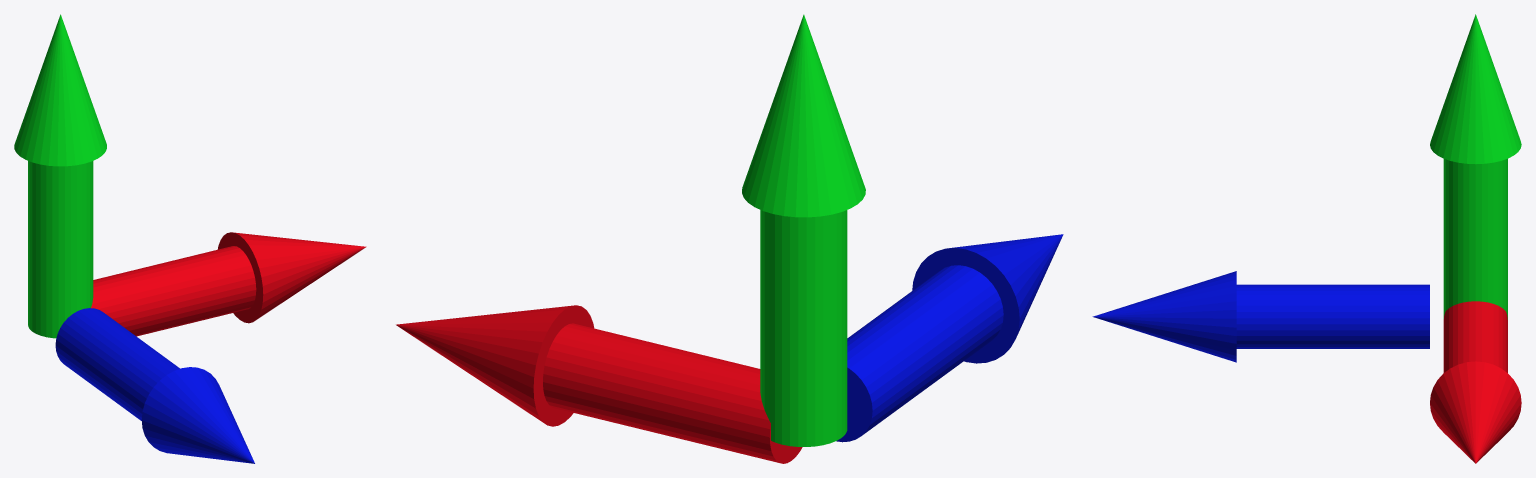
Rendered from axes.gltf.
3 views of the same model, side by side, from view 1: azimuth 30°, elevation 25°; view 2: azimuth 150°, elevation 25°; view 3: azimuth 270°, elevation 25° (orthographic). The views are drawn at different scales.
Visible parts, largest first — view 1: Cylinder.001, Cylinder.002, Cone.001, Cone, Cylinder, Cone.002; view 2: Cylinder.002, Cylinder.001, Cylinder, Cone.001, Cone.002, Cone; view 3: Cylinder, Cylinder.001, Cone.001, Cone, Cone.002, Cylinder.002.
Boxes of the visible parts, x1,y1,x2,y2 form: Cylinder.001: (28,161,93,338); Cylinder.002: (91,246,256,336); Cone.001: (14,14,106,166); Cone: (141,367,254,463); Cylinder: (55,308,179,420); Cone.002: (217,232,366,323); Cylinder.002: (543,323,802,463); Cylinder.001: (760,210,847,446); Cylinder: (836,265,1003,442); Cone.001: (742,14,865,217); Cone.002: (396,305,594,426); Cone: (912,234,1063,363); Cylinder: (1236,284,1429,348); Cylinder.001: (1443,158,1507,319); Cone.001: (1430,14,1521,164); Cone: (1092,271,1236,362); Cone.002: (1430,361,1521,463); Cylinder.002: (1443,301,1507,372).
Size of the model in its own units: 3.9 by 3.77 by 4.25.
